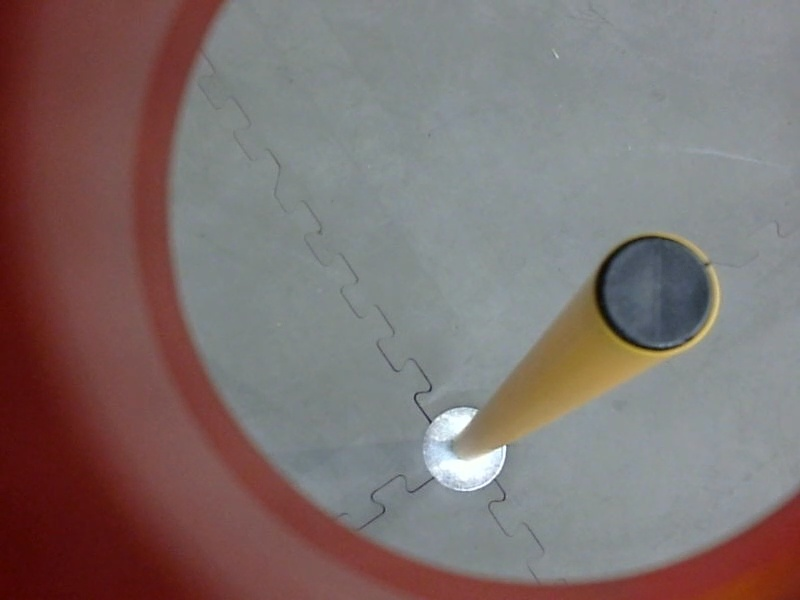tip: (586, 226, 727, 358)
